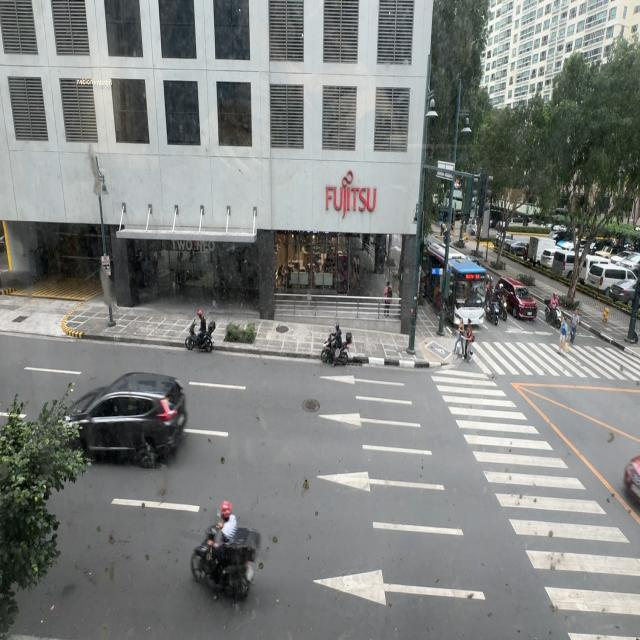crossing: (453, 318, 466, 358), (463, 319, 474, 362), (558, 314, 568, 353)
jaywalking: (569, 308, 581, 343)
